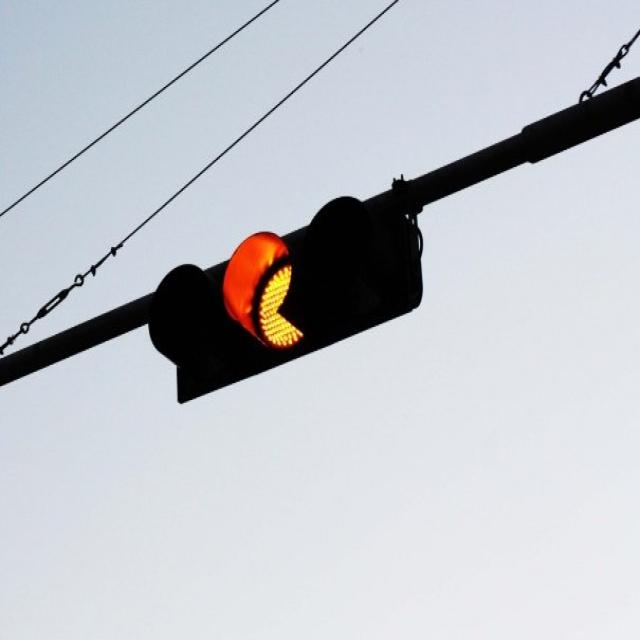Yellow Light: (228, 232, 319, 360)
